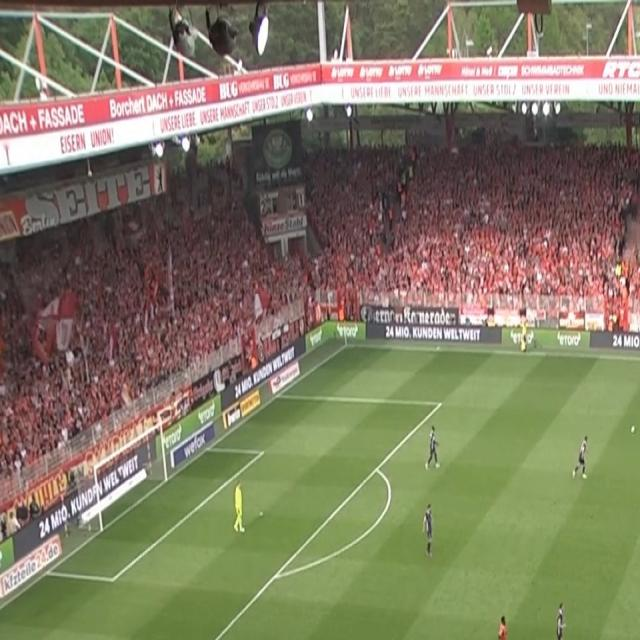ball: (630, 423, 637, 435)
